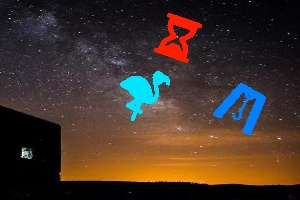丹顶鹤: (119, 70, 170, 120)
漏斗: (155, 13, 201, 64)
钩子: (213, 82, 265, 136)
